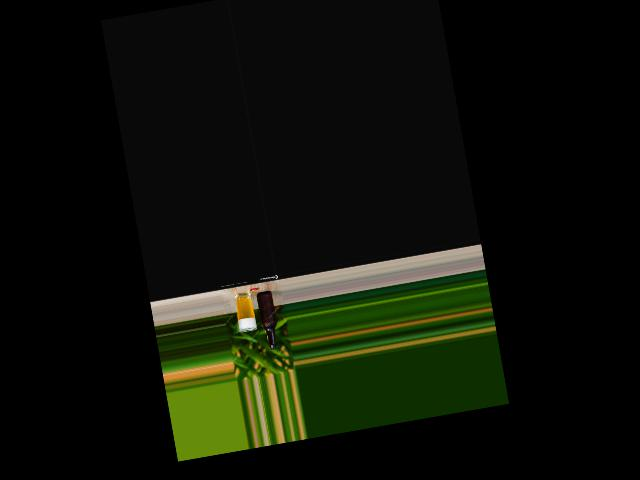beer: (255, 290, 280, 350)
